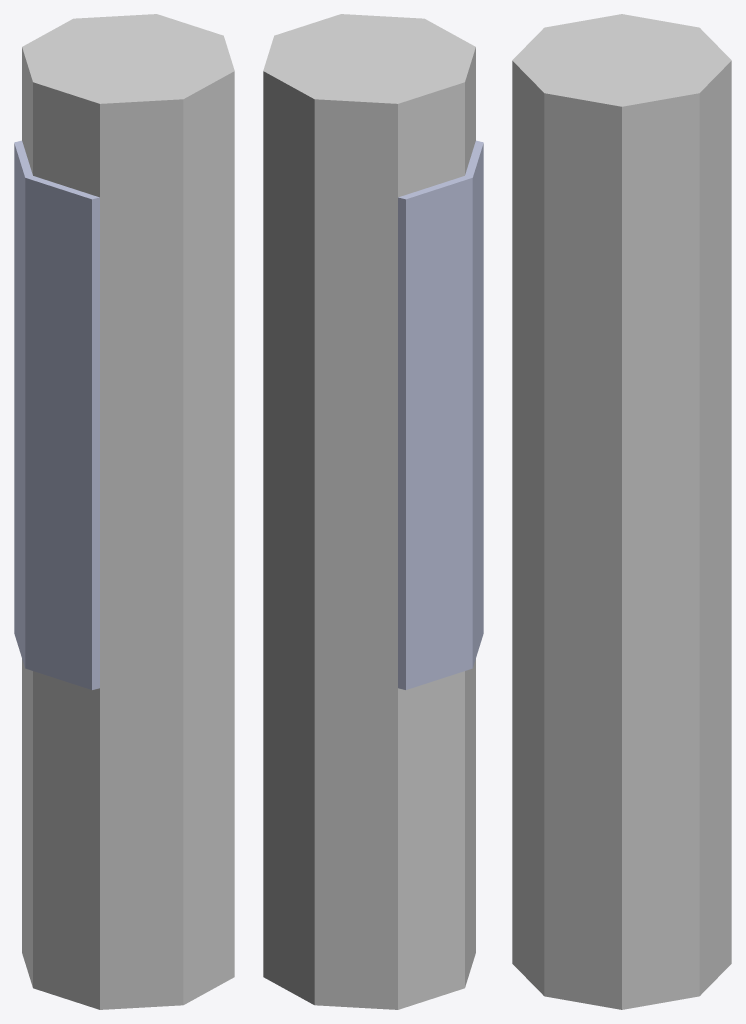
File: PipeCache.fbx
The picture shows the model from 3 angles, left to right: view 1: azimuth 30°, elevation 25°; view 2: azimuth 150°, elevation 25°; view 3: azimuth 270°, elevation 25°; orthographic projection.
Visible parts, largest first — view 1: VerticalLongPipe, Glass; view 2: VerticalLongPipe, Glass; view 3: VerticalLongPipe.
Part boxes in pixels (bbox=[...]): VerticalLongPipe: bbox=[22, 14, 234, 1009]; Glass: bbox=[14, 140, 99, 689]; VerticalLongPipe: bbox=[263, 14, 475, 1009]; Glass: bbox=[398, 140, 483, 689]; VerticalLongPipe: bbox=[512, 14, 731, 1009].
Bounding box in the file's own units: 1.47 × 6.42 × 1.42.
